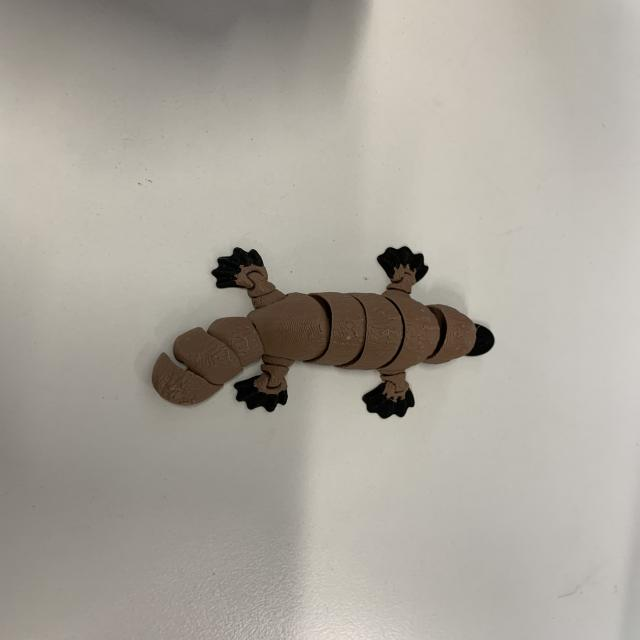platypus: (139, 233, 501, 459)
